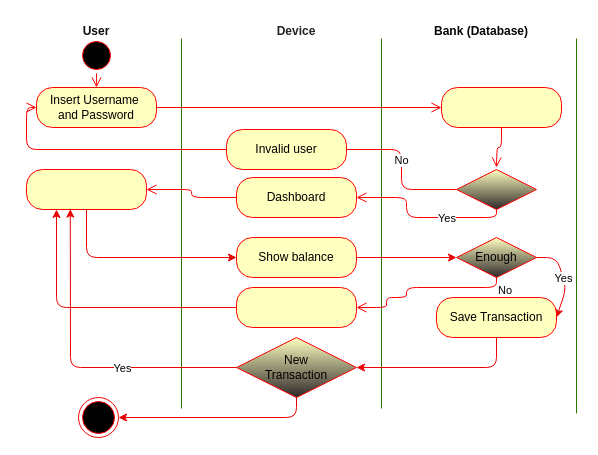
Image size: 598x455. Some labels were removed from this diagram. The shapes that lost their labels are listed below. From the top down, each one's box as (x1, y1, x2, y2) in pixels, then its label:
(440, 86, 562, 128): Validate Username and Password
(26, 168, 146, 210): Enter Withdrawl details
(456, 168, 536, 210): validate
(236, 286, 356, 328): Insufficient balance
